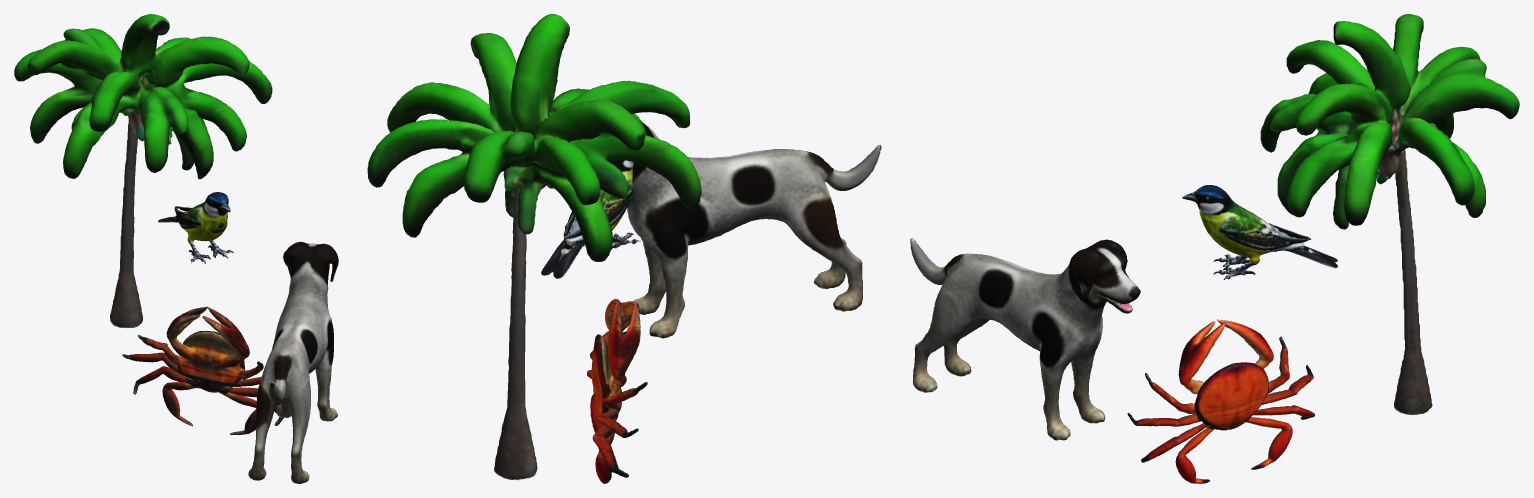
Rendered from crab1.glb.
3 views of the same model, side by side, from view 1: azimuth 30°, elevation 25°; view 2: azimuth 150°, elevation 25°; view 3: azimuth 270°, elevation 25° (orthographic). The views are drawn at different scales.
Visible parts, largest first — view 1: Mesh_0.005, Mesh_0.001, Mesh_0.004, Mesh_0.002; view 2: Mesh_0.005, Mesh_0.001, Mesh_0.004, Mesh_0.002; view 3: Mesh_0.005, Mesh_0.001, Mesh_0.004, Mesh_0.002.
Part boxes in pixels (x1,y1,x2,y2): Mesh_0.005: [14, 14, 272, 328]; Mesh_0.001: [248, 241, 338, 483]; Mesh_0.004: [122, 306, 283, 435]; Mesh_0.002: [158, 192, 233, 263]; Mesh_0.005: [367, 14, 701, 480]; Mesh_0.001: [627, 121, 881, 338]; Mesh_0.004: [587, 299, 647, 483]; Mesh_0.002: [541, 159, 640, 278]; Mesh_0.005: [1260, 14, 1519, 414]; Mesh_0.001: [910, 238, 1140, 440]; Mesh_0.004: [1127, 319, 1314, 483]; Mesh_0.002: [1182, 185, 1337, 279].
Bounding box in the file's own units: 13.87 × 22.79 × 27.98.
Materials: 4 (4 with a texture image).
